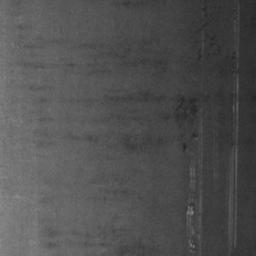Bright scratch: (228, 23, 241, 250), (187, 165, 197, 253)
